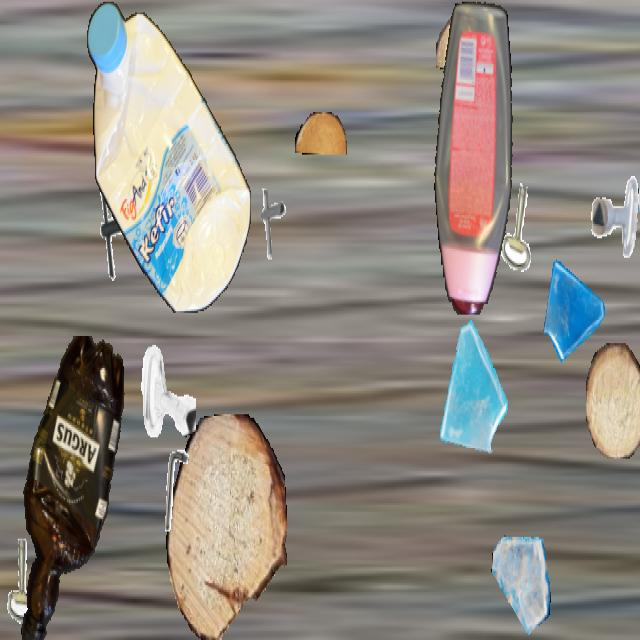glass: (429, 318, 509, 461), (541, 249, 607, 366), (491, 532, 551, 638), (638, 165, 640, 272)
metal: (89, 176, 149, 283), (138, 340, 196, 442), (493, 178, 549, 277), (0, 532, 53, 631), (151, 442, 205, 538), (590, 172, 640, 265), (249, 183, 293, 261)
plastic: (87, 2, 251, 311), (11, 336, 131, 638), (433, 2, 517, 314)
wood: (166, 414, 286, 638), (586, 343, 640, 457), (436, 16, 510, 73), (295, 112, 347, 155)
